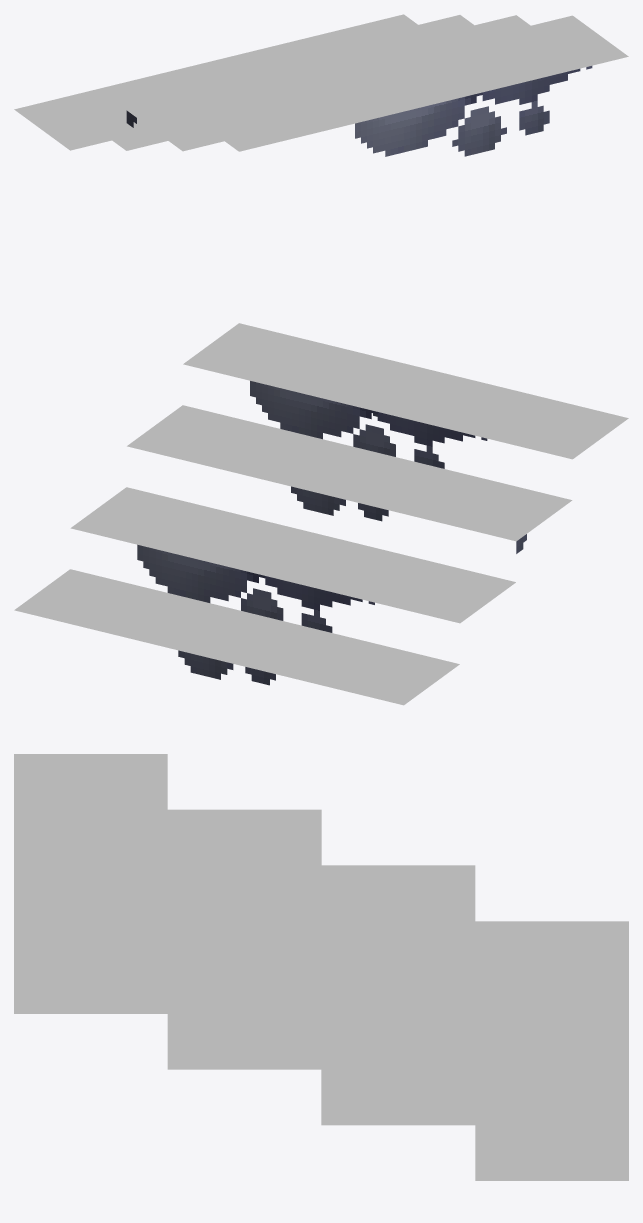
Rendered from floor_stairs.dae.
The picture shows the model from 3 angles, top to bottom: view 1: azimuth 30°, elevation 25°; view 2: azimuth 150°, elevation 25°; view 3: azimuth 270°, elevation 25°; orthographic projection. The views are drawn at different scales.
Parts seen in each view (by area): view 1: floor_stairs; view 2: floor_stairs; view 3: floor_stairs.
Part boxes in pixels (bbox=[...]): floor_stairs: bbox=[14, 14, 628, 156]; floor_stairs: bbox=[14, 323, 628, 705]; floor_stairs: bbox=[14, 754, 628, 1180].
Size of the model in its own units: 1 by 0.35 by 1.
